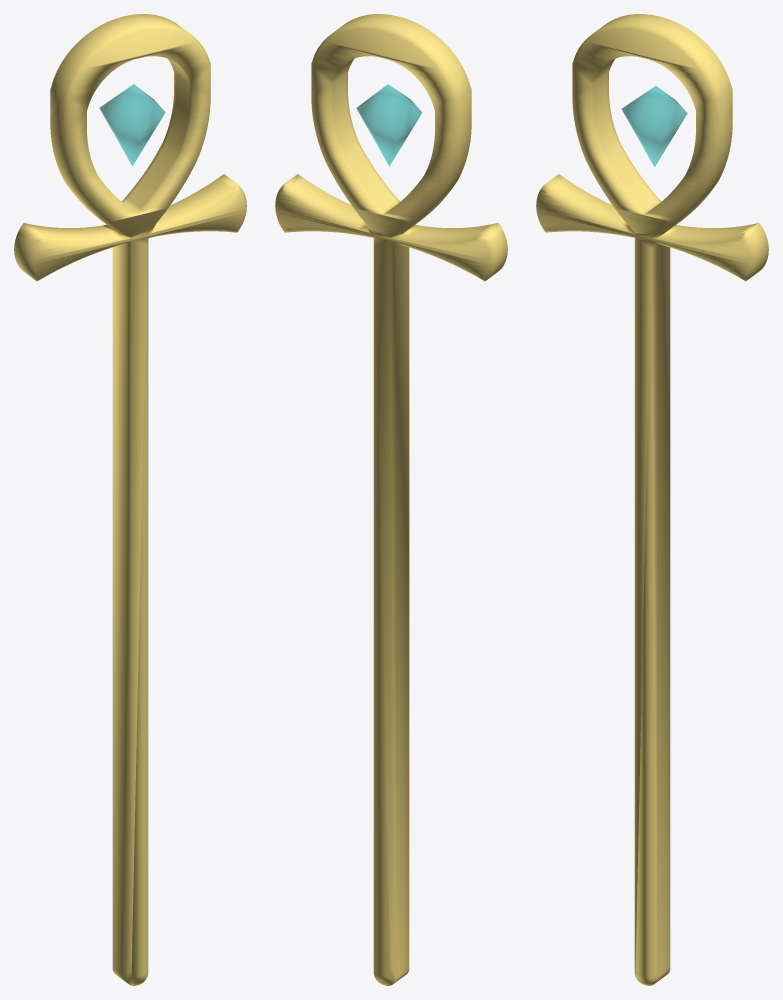
File: ankh.fbx
The picture shows the model from 3 angles, left to right: view 1: azimuth 30°, elevation 25°; view 2: azimuth 150°, elevation 25°; view 3: azimuth 330°, elevation 25°; orthographic projection.
Visible parts, largest first — view 1: Model, Component_4_1; view 2: Model, Component_4_1; view 3: Model, Component_4_1.
Part boxes in pixels (x1,y1,x2,y2): Model: (14, 14, 246, 985); Component_4_1: (99, 84, 165, 166); Model: (275, 14, 507, 985); Component_4_1: (356, 84, 422, 166); Model: (536, 14, 768, 985); Component_4_1: (621, 86, 687, 167).
Size of the model in its own units: 19.12 by 79.82 by 5.
